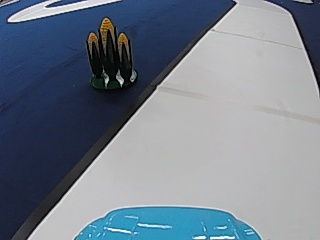corn: (83, 14, 139, 90)
